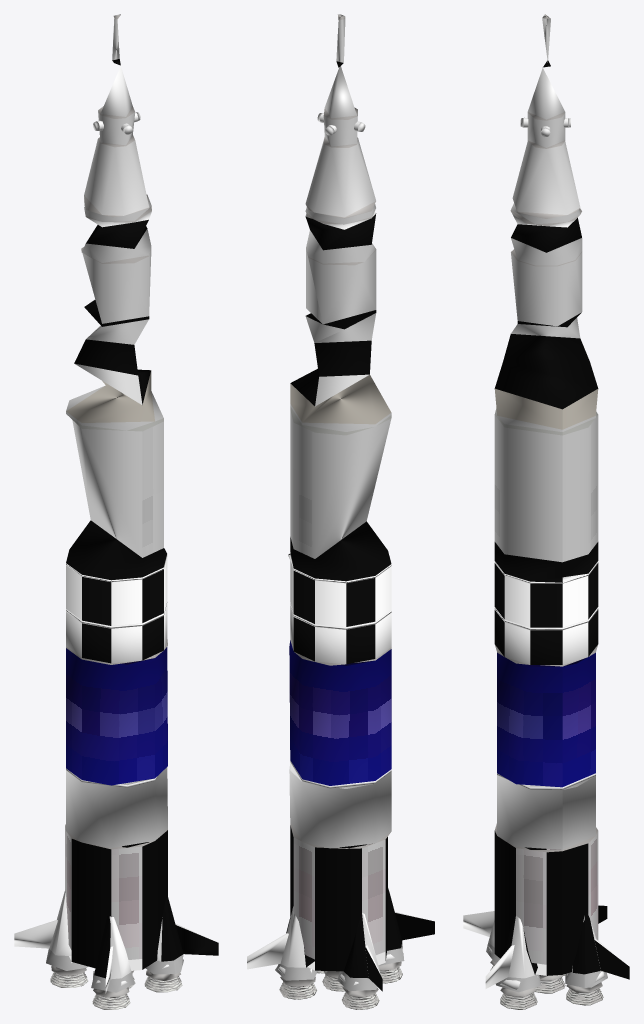
Rendered from saturn-v.glb.
3 views of the same model, side by side, from view 1: azimuth 30°, elevation 25°; view 2: azimuth 150°, elevation 25°; view 3: azimuth 270°, elevation 25° (orthographic).
Visible parts, largest first — view 1: pCylinder1, group3 gro, group1 pCo, group1 gro, pCube1 gro, group6 pCu, polySurfac, polySurfa1, polySurfa3; view 2: pCylinder1, group1 gro, pCone2 gro, group3 gro, group7 pCu, pCube1 gr1, polySurfa2, polySurfa1; view 3: pCylinder1, group1 pCo, pCone2 gro, group7 pCu, polySurfa3, polySurfa2, pCube1 gr1, pCube1 gro, polySurfa4.
Boxes of the visible parts, <box> form: pCylinder1: <box>65,14,167,970</box>; group3 gro: <box>91,915,134,992</box>; group1 pCo: <box>145,897,183,974</box>; group1 gro: <box>46,890,87,970</box>; pCube1 gro: <box>175,923,218,955</box>; group6 pCu: <box>14,920,57,948</box>; polySurfac: <box>92,987,130,1009</box>; polySurfa1: <box>50,965,87,987</box>; polySurfa3: <box>144,970,182,992</box>; pCylinder1: <box>288,14,391,971</box>; group1 gro: <box>337,912,380,990</box>; pCone2 gro: <box>275,906,317,980</box>; group3 gro: <box>378,887,404,965</box>; group7 pCu: <box>247,933,288,969</box>; pCube1 gr1: <box>395,912,434,940</box>; polySurfa2: <box>279,976,316,999</box>; polySurfa1: <box>341,986,379,1009</box>; pCylinder1: <box>494,14,598,975</box>; group1 pCo: <box>496,914,540,992</box>; pCone2 gro: <box>565,912,607,987</box>; group7 pCu: <box>594,938,629,979</box>; polySurfa3: <box>500,987,537,1009</box>; polySurfa2: <box>566,982,603,1005</box>; pCube1 gr1: <box>463,911,494,936</box>; pCube1 gro: <box>485,945,514,988</box>; polySurfa4: <box>535,975,565,993</box>.
Bounding box in the file's own units: 1.99 × 12.8 × 1.99.
7 materials, 7 textured.
